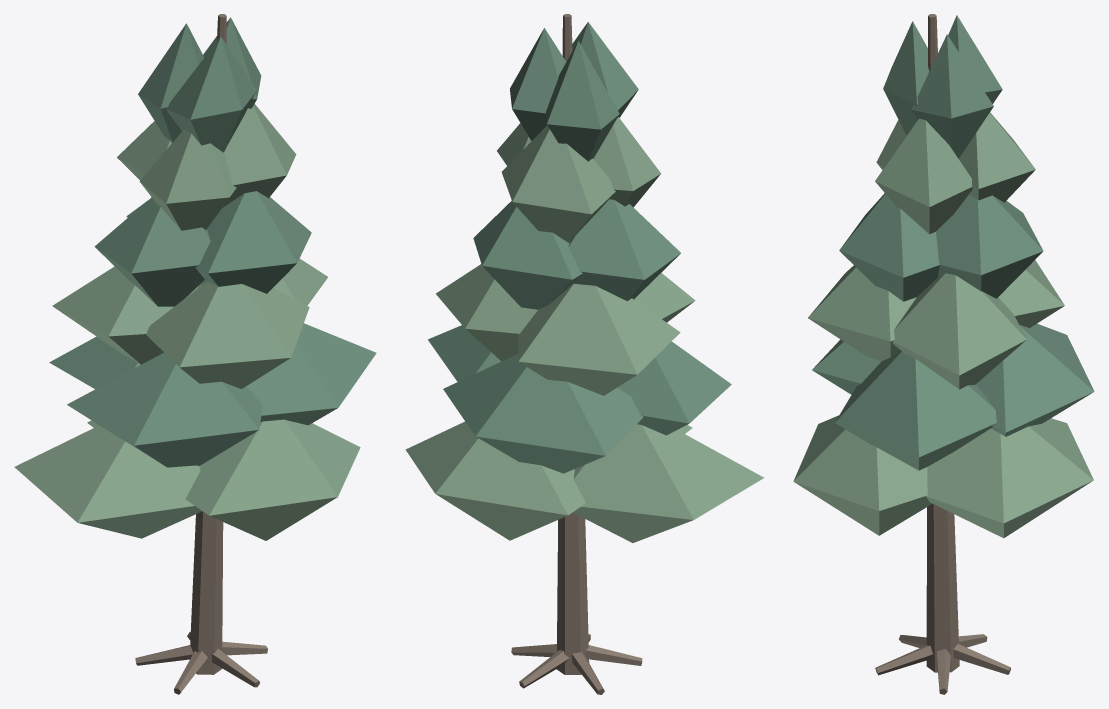
3 views of the same model, side by side, from view 1: azimuth 30°, elevation 25°; view 2: azimuth 150°, elevation 25°; view 3: azimuth 270°, elevation 25° (orthographic).
Size of the model in its own units: 8.5 by 16.61 by 6.91.
